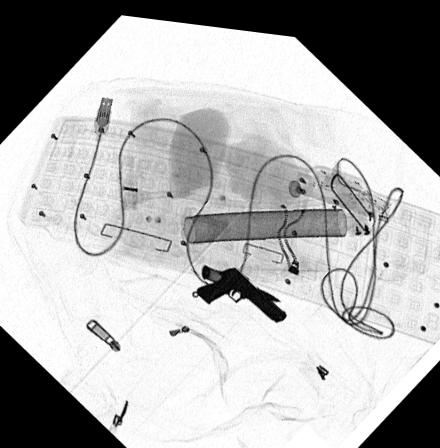Bullet: (201, 259, 281, 296)
Gun: (195, 262, 288, 316)
